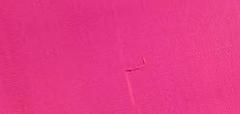snag: (122, 55, 150, 74)
